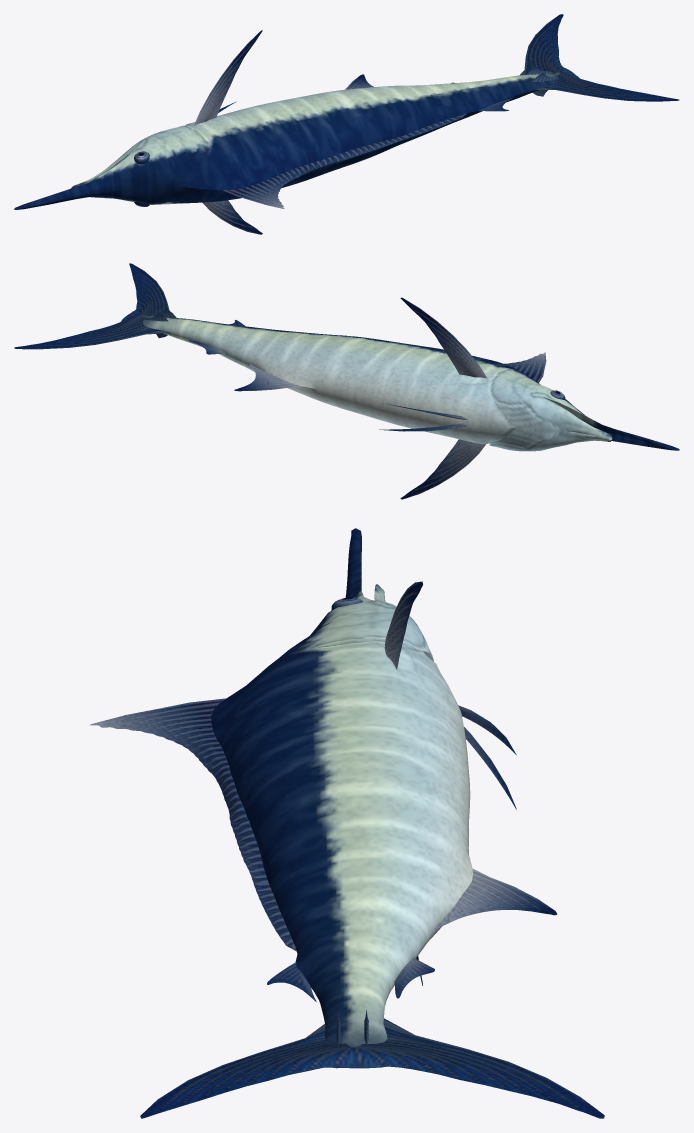
The model's file is BulueMarlin0.obj.
3 views of the same model, one above another, from view 1: azimuth 30°, elevation 25°; view 2: azimuth 150°, elevation 25°; view 3: azimuth 270°, elevation 25° (orthographic). The views are drawn at different scales.
Parts seen in each view (by area): view 1: object, object11, object2, object6, object5; view 2: object, object11, object6, object5, object9, object2; view 3: object, object11, object2, object9, object6, object3.
Boxes of the visible parts, x1,y1,x2,y2 form: object: [14, 72, 559, 209]; object11: [519, 14, 679, 101]; object2: [223, 135, 408, 208]; object6: [194, 30, 262, 125]; object5: [202, 200, 262, 234]; object: [141, 314, 679, 451]; object11: [14, 263, 170, 349]; object6: [400, 297, 487, 378]; object5: [400, 439, 485, 499]; object9: [234, 364, 301, 391]; object2: [504, 352, 546, 382]; object: [211, 528, 472, 1046]; object11: [140, 1018, 604, 1118]; object2: [90, 698, 268, 884]; object9: [434, 869, 557, 929]; object6: [384, 581, 422, 669]; object3: [254, 883, 295, 950].
Bounding box in the file's own units: 0.3998 × 0.1279 × 0.1476.
1 material, 1 textured.
